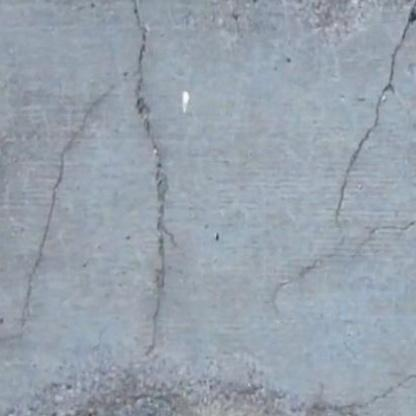Cracks: (260, 0, 416, 325), (12, 76, 124, 325), (124, 0, 181, 365), (284, 348, 416, 416)
